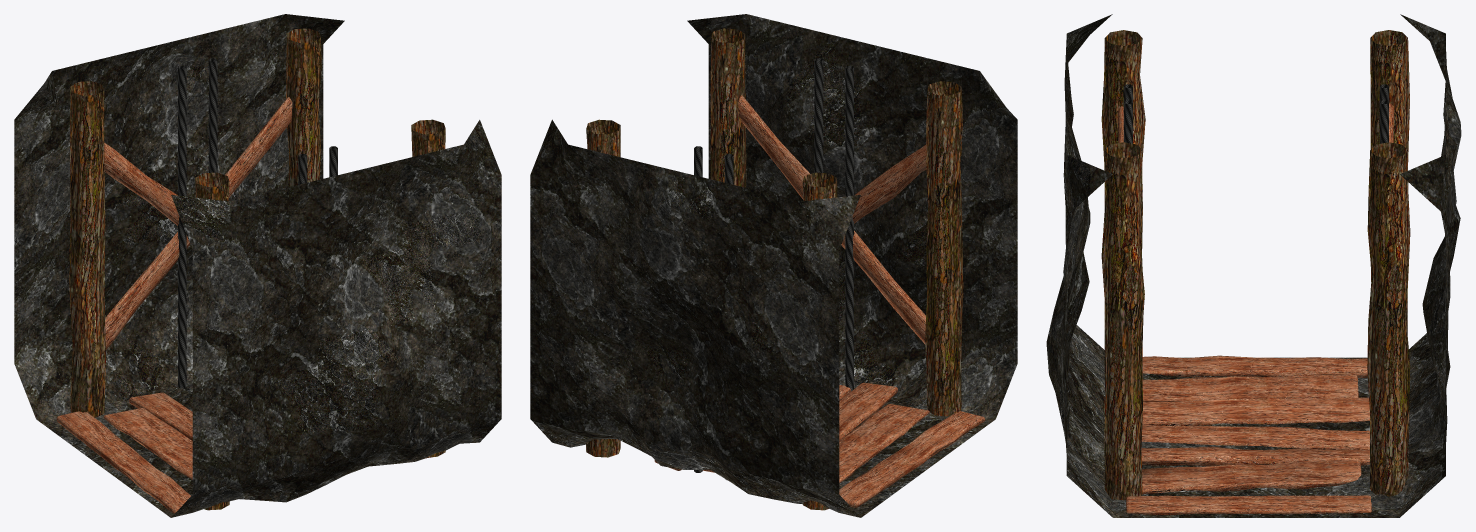
Rendered from Cave_075.fbx.
3 renders of one model, left to right at view 1: azimuth 30°, elevation 25°; view 2: azimuth 150°, elevation 25°; view 3: azimuth 270°, elevation 25°, orthographic. The views are drawn at different scales.
Parts seen in each view (by area): view 1: Cave.075; view 2: Cave.075; view 3: Cave.075.
Part boxes in pixels (x1,y1,x2,y2): Cave.075: (14, 14, 501, 517); Cave.075: (530, 14, 1017, 517); Cave.075: (1046, 14, 1461, 517).
Bounding box in the file's own units: 300 × 308 × 328.
